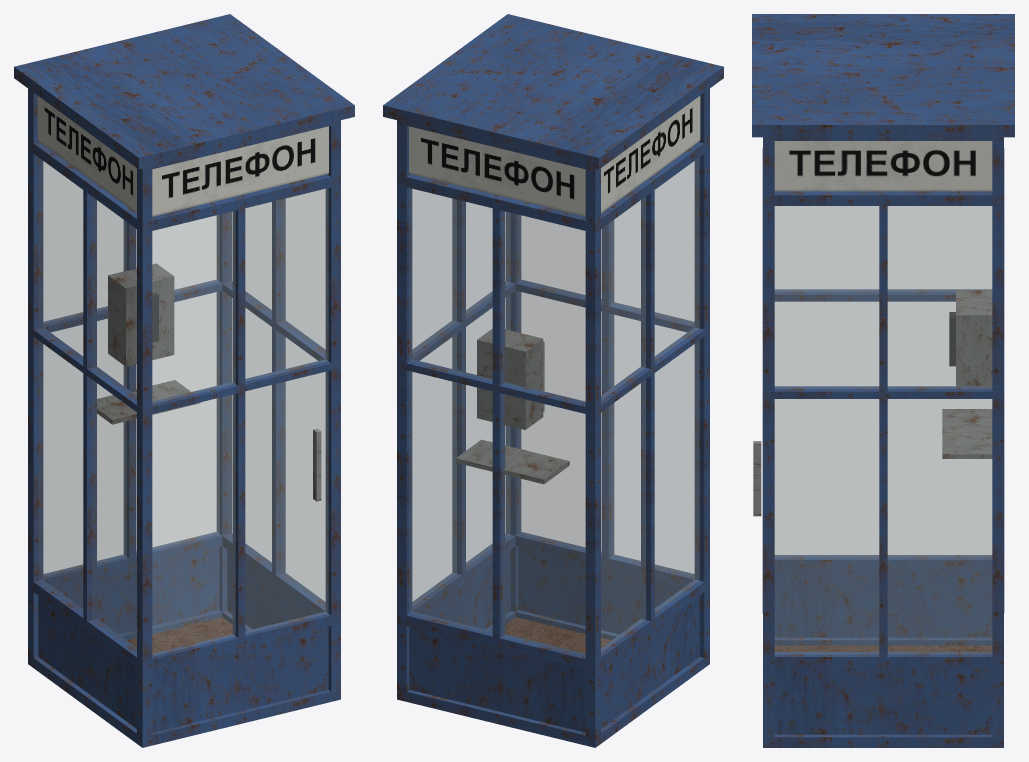
The model's file is phone_booth_lod2_web.glb.
The picture shows the model from 3 angles, left to right: view 1: azimuth 30°, elevation 25°; view 2: azimuth 150°, elevation 25°; view 3: azimuth 270°, elevation 25°; orthographic projection. The views are drawn at different scales.
Visible parts, largest first — view 1: PhoneBooth_Mesh; view 2: PhoneBooth_Mesh; view 3: PhoneBooth_Mesh.
Boxes of the visible parts, box(x1,y1,x2,y2) form: PhoneBooth_Mesh: box(14, 14, 354, 747); PhoneBooth_Mesh: box(383, 14, 723, 747); PhoneBooth_Mesh: box(752, 14, 1014, 747).
Bounding box in the file's own units: 0.98 × 2.58 × 0.98.
7 materials, 5 textured.
